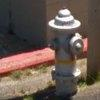Hydrant: (35, 6, 90, 100)
